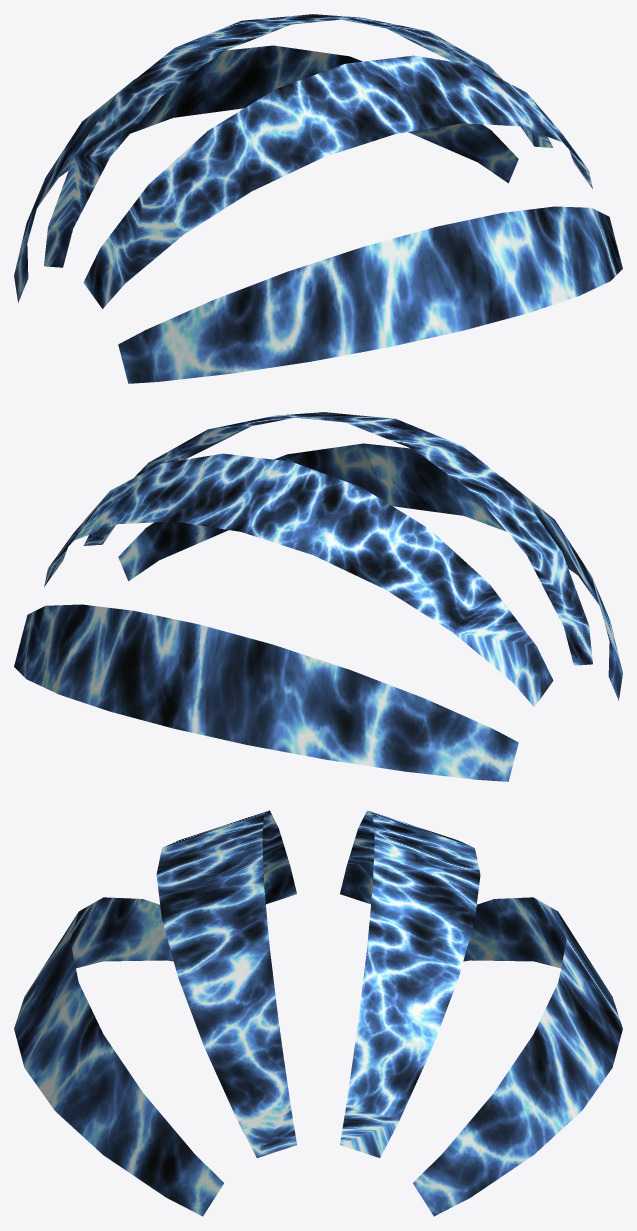
File: head_inner.dae
3 renders of one model, top to bottom at view 1: azimuth 30°, elevation 25°; view 2: azimuth 150°, elevation 25°; view 3: azimuth 270°, elevation 25°, orthographic. The views are drawn at different scales.
Parts seen in each view (by area): view 1: Eye_Inner; view 2: Eye_Inner; view 3: Eye_Inner.
Part boxes in pixels (x1,y1,x2,y2): Eye_Inner: (14, 14, 622, 383); Eye_Inner: (14, 412, 622, 781); Eye_Inner: (14, 810, 622, 1216).
Bounding box in the file's own units: 0.5751 × 0.59 × 0.2684.
1 material, 1 textured.
